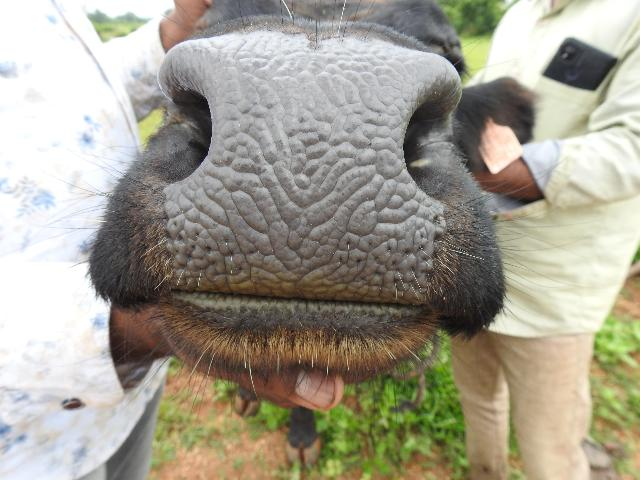Muzzle: (188, 45, 432, 289)
